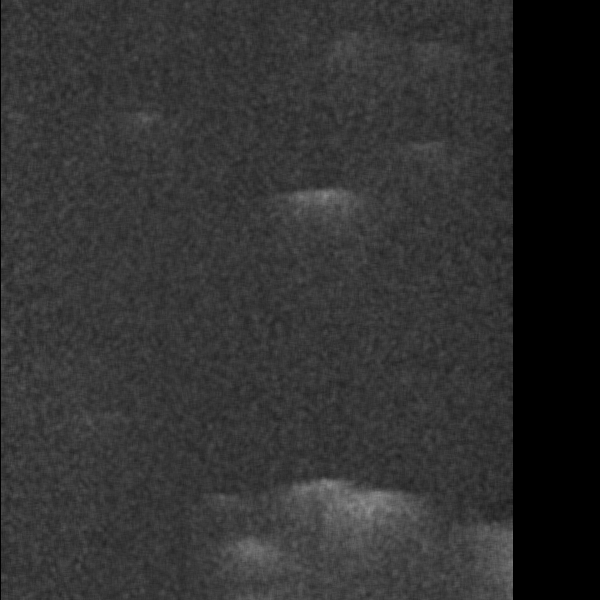spark: (5, 17, 73, 77), (5, 285, 44, 319)
